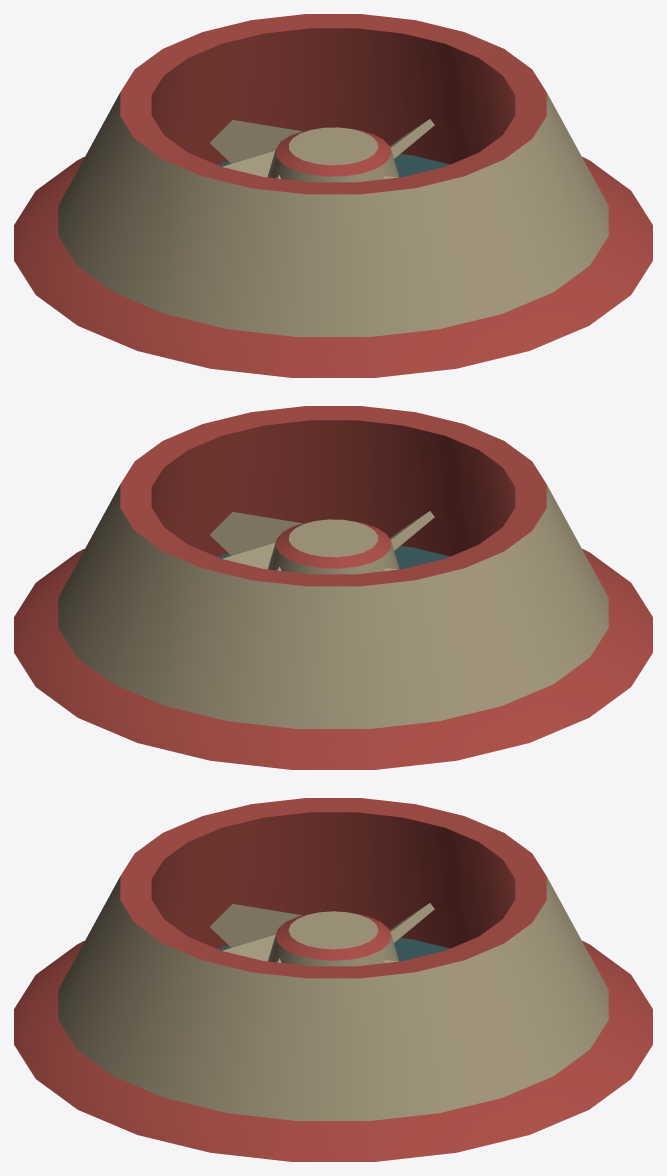
Rendered from ImpellerCassette.gltf.
3 views of the same model, one above another, from view 1: azimuth 30°, elevation 25°; view 2: azimuth 150°, elevation 25°; view 3: azimuth 270°, elevation 25° (orthographic).
Visible parts, largest first — view 1: Housing, Spindle; view 2: Housing, Spindle; view 3: Housing, Spindle.
Part boxes in pixels (x1=…): Housing: x1=14, y1=14, x2=652, y2=377; Spindle: x1=210, y1=119, x2=434, y2=182; Housing: x1=14, y1=406, x2=652, y2=769; Spindle: x1=210, y1=511, x2=434, y2=574; Housing: x1=14, y1=798, x2=652, y2=1161; Spindle: x1=210, y1=903, x2=434, y2=966.
Bounding box in the file's own units: 1.68 × 0.4424 × 1.68.
